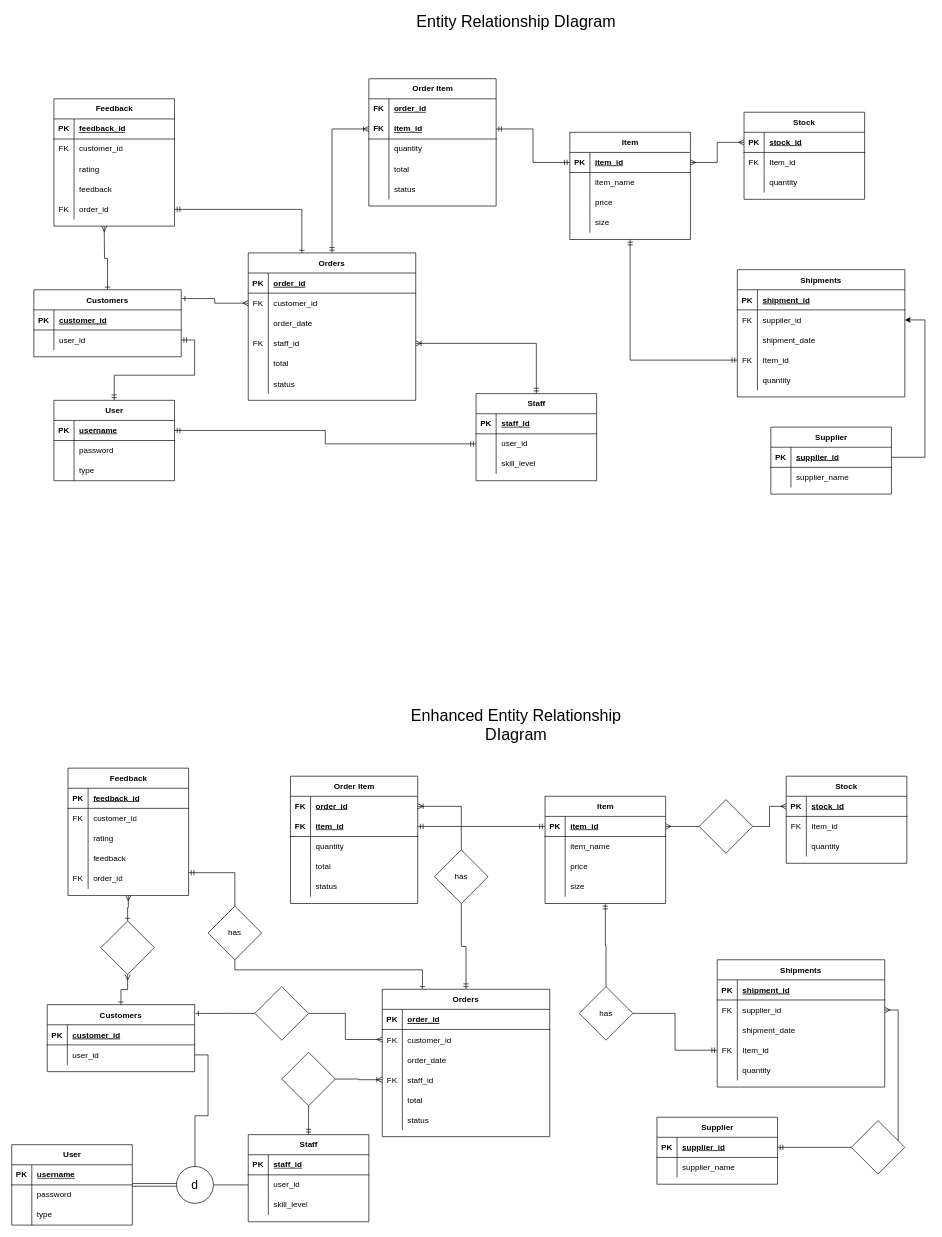
This 942x1237 diagram has some shape labels left out. The centre of each missing label's shape, as x and y in pixels:
"contains" belongs at (x=725, y=826).
"gives" belongs at (x=127, y=947).
"makes" belongs at (x=281, y=1013).
"supplies" belongs at (x=878, y=1147).
"takes" belongs at (x=308, y=1079).
